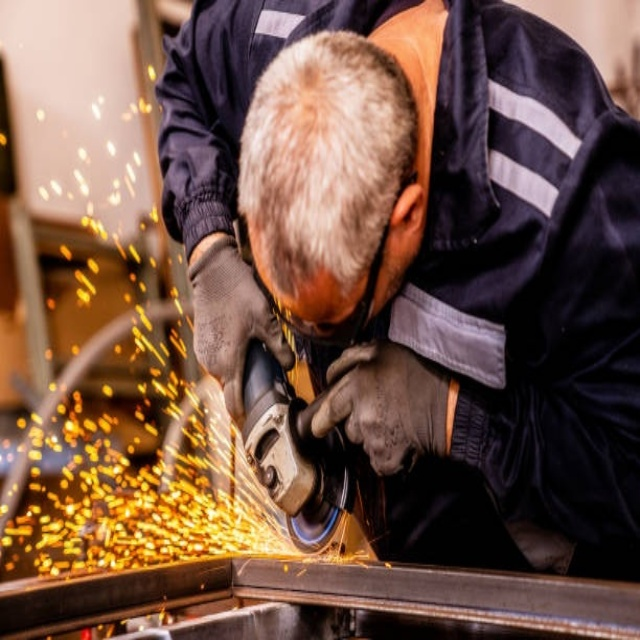Gafas: (259, 181, 399, 357)
Guantes: (311, 337, 460, 476), (188, 233, 295, 425)
